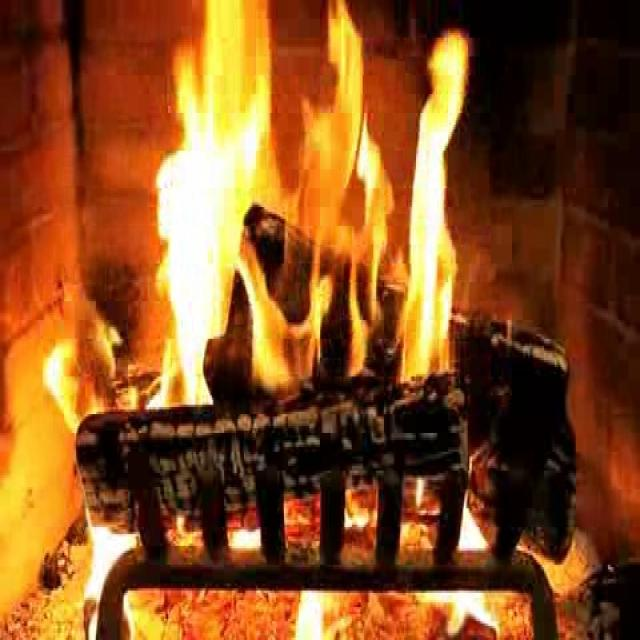fire: (143, 10, 478, 418)
